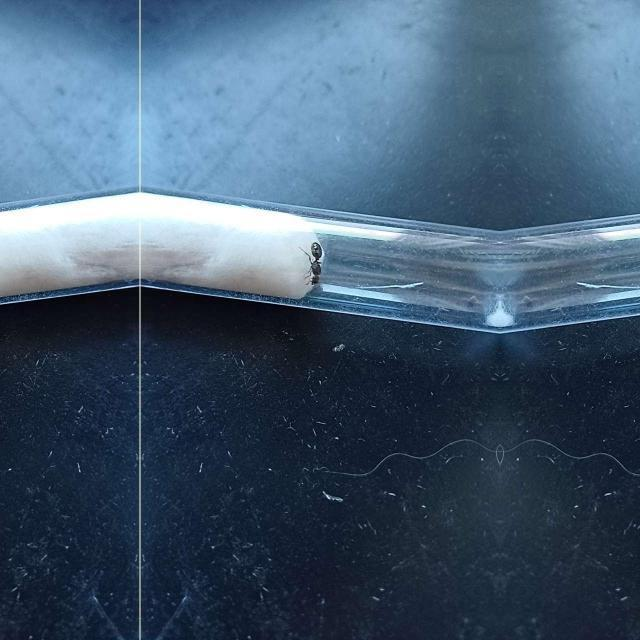Tetramorium: (304, 242, 328, 286)
